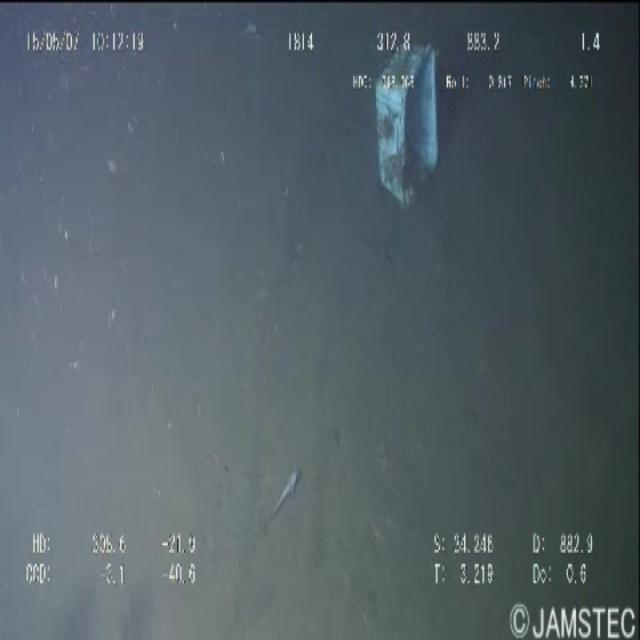Cutlery: (368, 33, 446, 209)
Natual-Debris: (253, 437, 314, 546)
